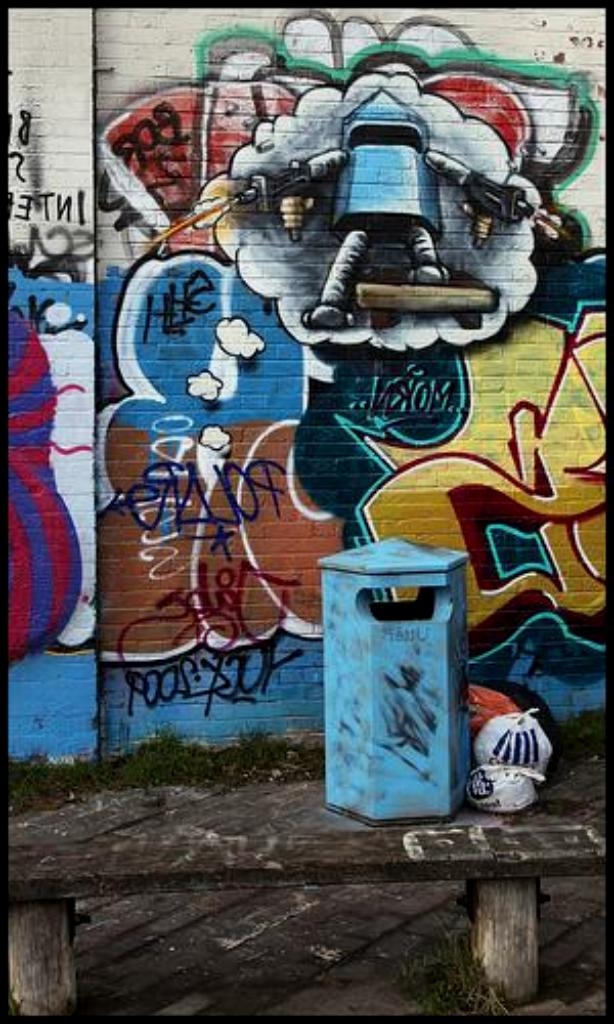dustbin: (312, 527, 465, 820)
